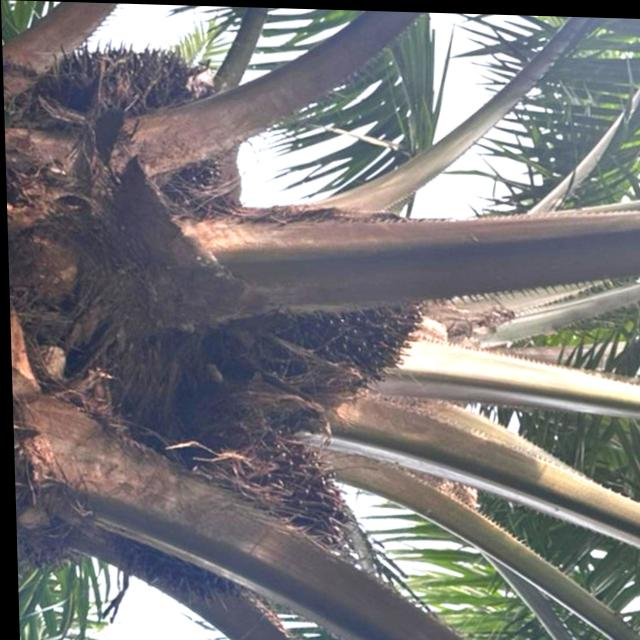unripe: (193, 190, 434, 411)
